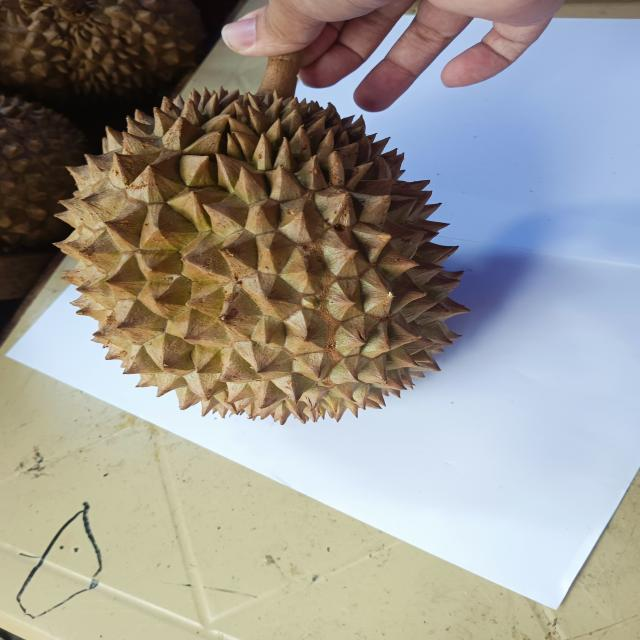mature: (50, 85, 468, 426)
